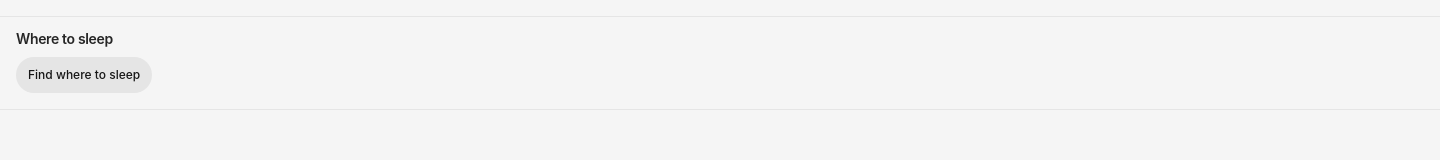
Test case: OvernightSection › reports a failure once, in the server's own words
Step 1. Click the button with test id "overnight-row-fill" → click(84, 75), box [16,57,152,93]
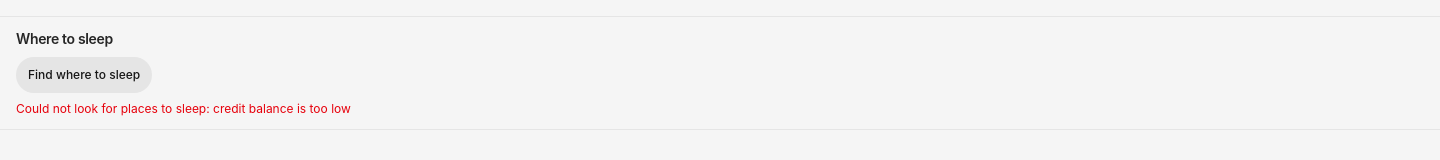
Result: the number of elements with test id "overnight-row-error" is 1 at [16,101,351,116]
Result: the text with test id "overnight-row-error" shows "credit balance is too low" at [16,101,351,116]
